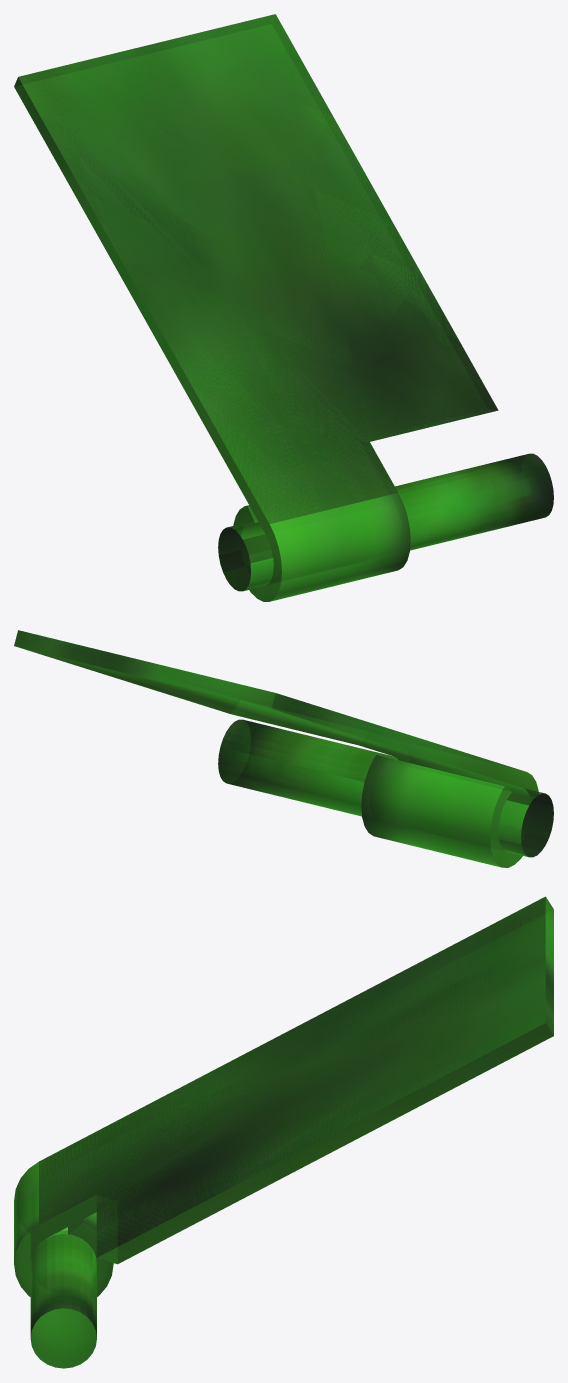
The model's file is original-124.obj.
The picture shows the model from 3 angles, top to bottom: view 1: azimuth 30°, elevation 25°; view 2: azimuth 150°, elevation 25°; view 3: azimuth 270°, elevation 25°; orthographic projection.
Parts seen in each view (by area): view 1: Group35/mesh145/mesh145-geometry#mesh145-geometry; view 2: Group35/mesh145/mesh145-geometry#mesh145-geometry; view 3: Group35/mesh145/mesh145-geometry#mesh145-geometry.
Boxes of the visible parts, box(x1,y1,x2,y2) form: Group35/mesh145/mesh145-geometry#mesh145-geometry: box(14, 14, 553, 601); Group35/mesh145/mesh145-geometry#mesh145-geometry: box(14, 630, 553, 867); Group35/mesh145/mesh145-geometry#mesh145-geometry: box(14, 896, 553, 1368).
Bounding box in the file's own units: 0.1125 × 0.1231 × 0.1724.
